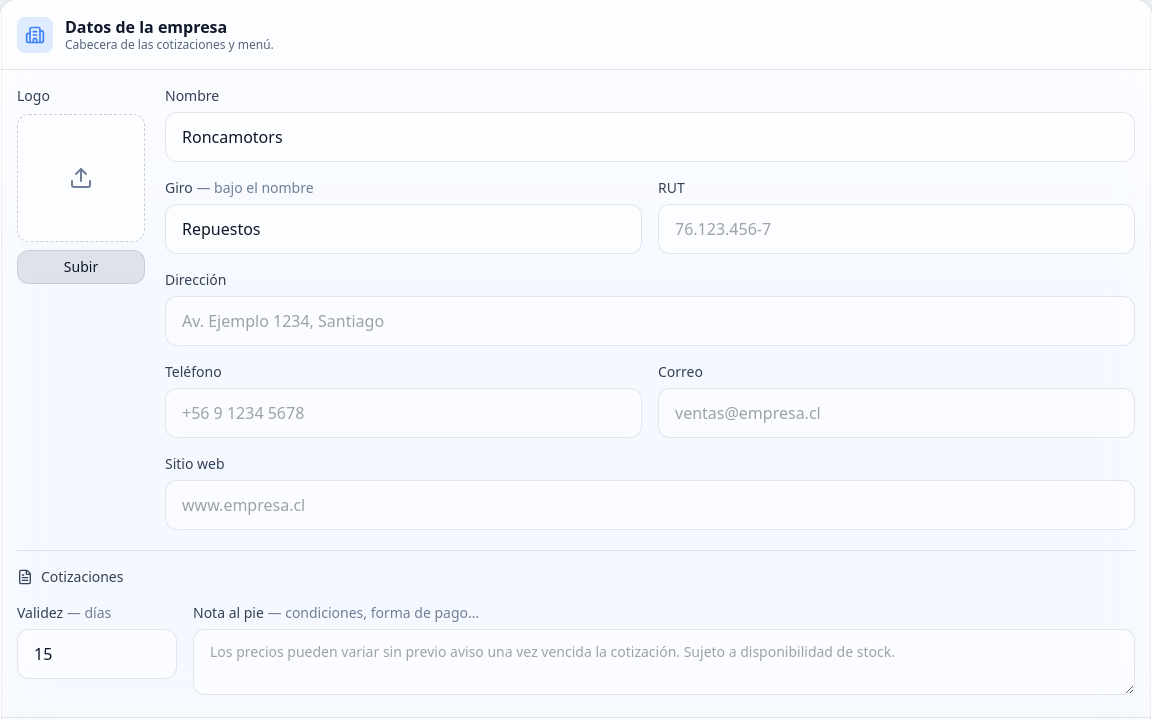
Datos de la empresa › RUT inválido: marca error y no guarda
The width and height of the screenshot is (1152, 720).
Later steps or results of the test are not shown.
Type "12345678-0" into the field labelled "RUT" at (896, 229), box [658, 204, 1135, 254]
(page scrolled)
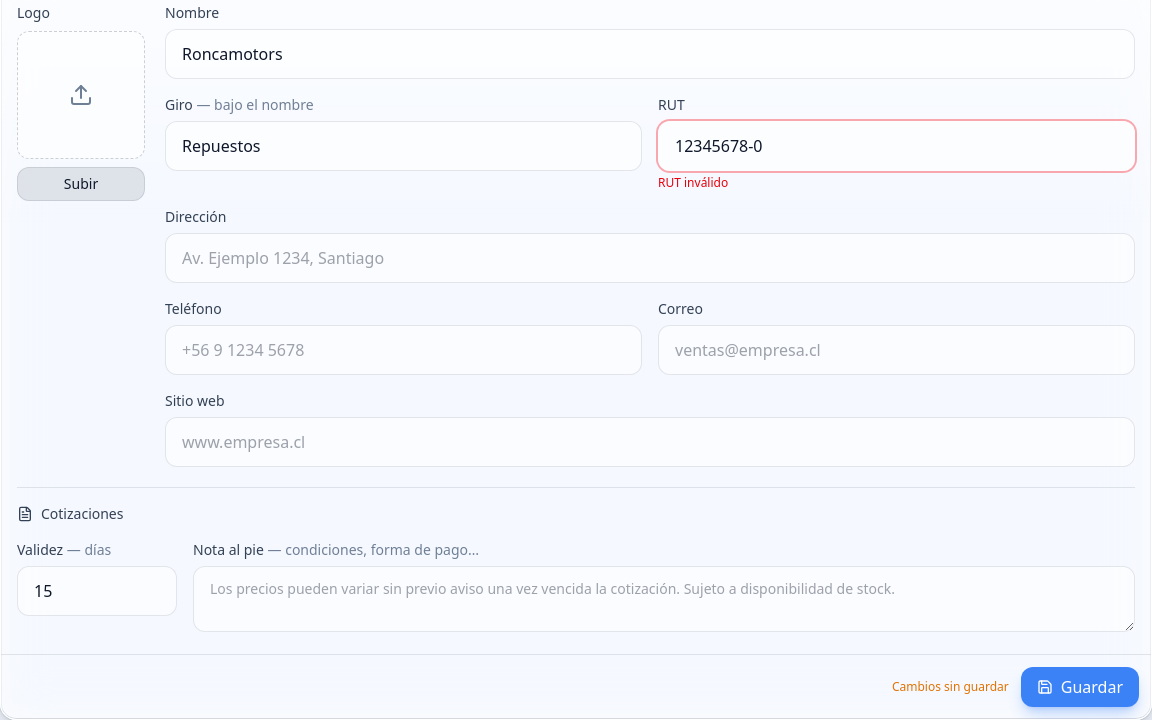
Result: the text "RUT inválido" is shown at [658, 174, 728, 191]
